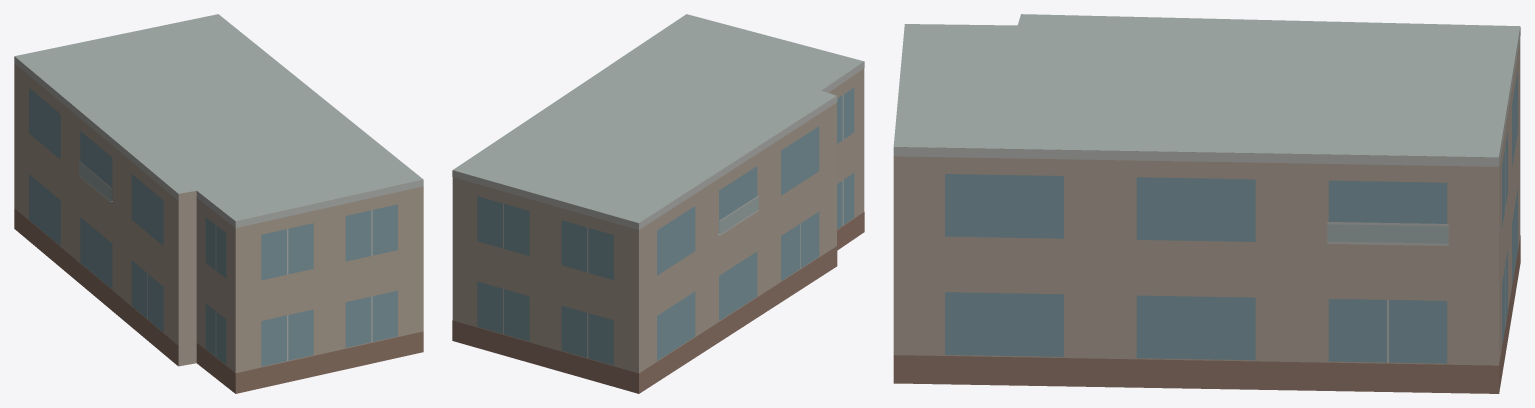
File: survey-upis-32947153.glb
3 renders of one model, left to right at view 1: azimuth 30°, elevation 25°; view 2: azimuth 150°, elevation 25°; view 3: azimuth 270°, elevation 25°, orthographic. The views are drawn at different scales.
Visible parts, largest first — view 1: survey-upis-32947153.tmp; view 2: survey-upis-32947153.tmp; view 3: survey-upis-32947153.tmp.
Boxes of the visible parts, <box> form: survey-upis-32947153.tmp: <box>14,14,423,393</box>; survey-upis-32947153.tmp: <box>452,14,864,393</box>; survey-upis-32947153.tmp: <box>893,14,1520,393</box>.
Size of the model in its own units: 7.94 by 6.1 by 14.67.
